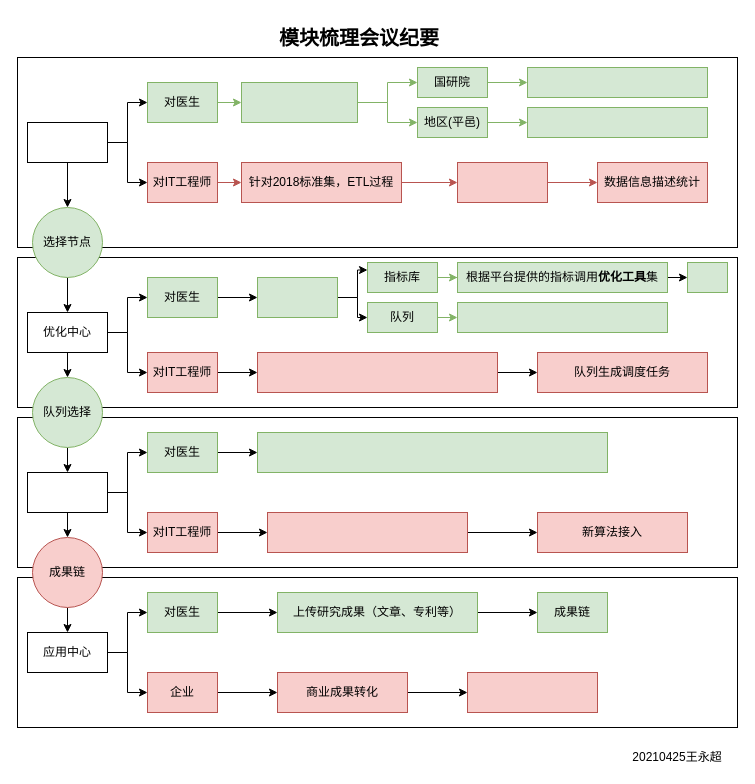
The diagram is 755 pixels wide and 784 high, and some of its shapes have lost their labels. Here are the shapes that lost their labels. From the top down, the box of each, then its label:
(240, 82, 358, 122): 国康链数据节点列表
(526, 66, 708, 98): 以地图形式展示全貌
(26, 122, 108, 162): 资源中心
(526, 106, 708, 138): 展示各节点描述、数据描述
(456, 162, 548, 202): 节点配置
(256, 276, 338, 318): 队列创建器
(686, 262, 728, 292): NLP
(456, 302, 668, 332): 权限管理使用分配等
(256, 352, 498, 392): 预处理：生成类似UKB的指标体系
(256, 432, 608, 472): 流程化的数据分析方法
(26, 472, 108, 512): 分析中心
(266, 512, 468, 552): 统计分析算法流程维护
(466, 672, 598, 712): 成果代理授权
